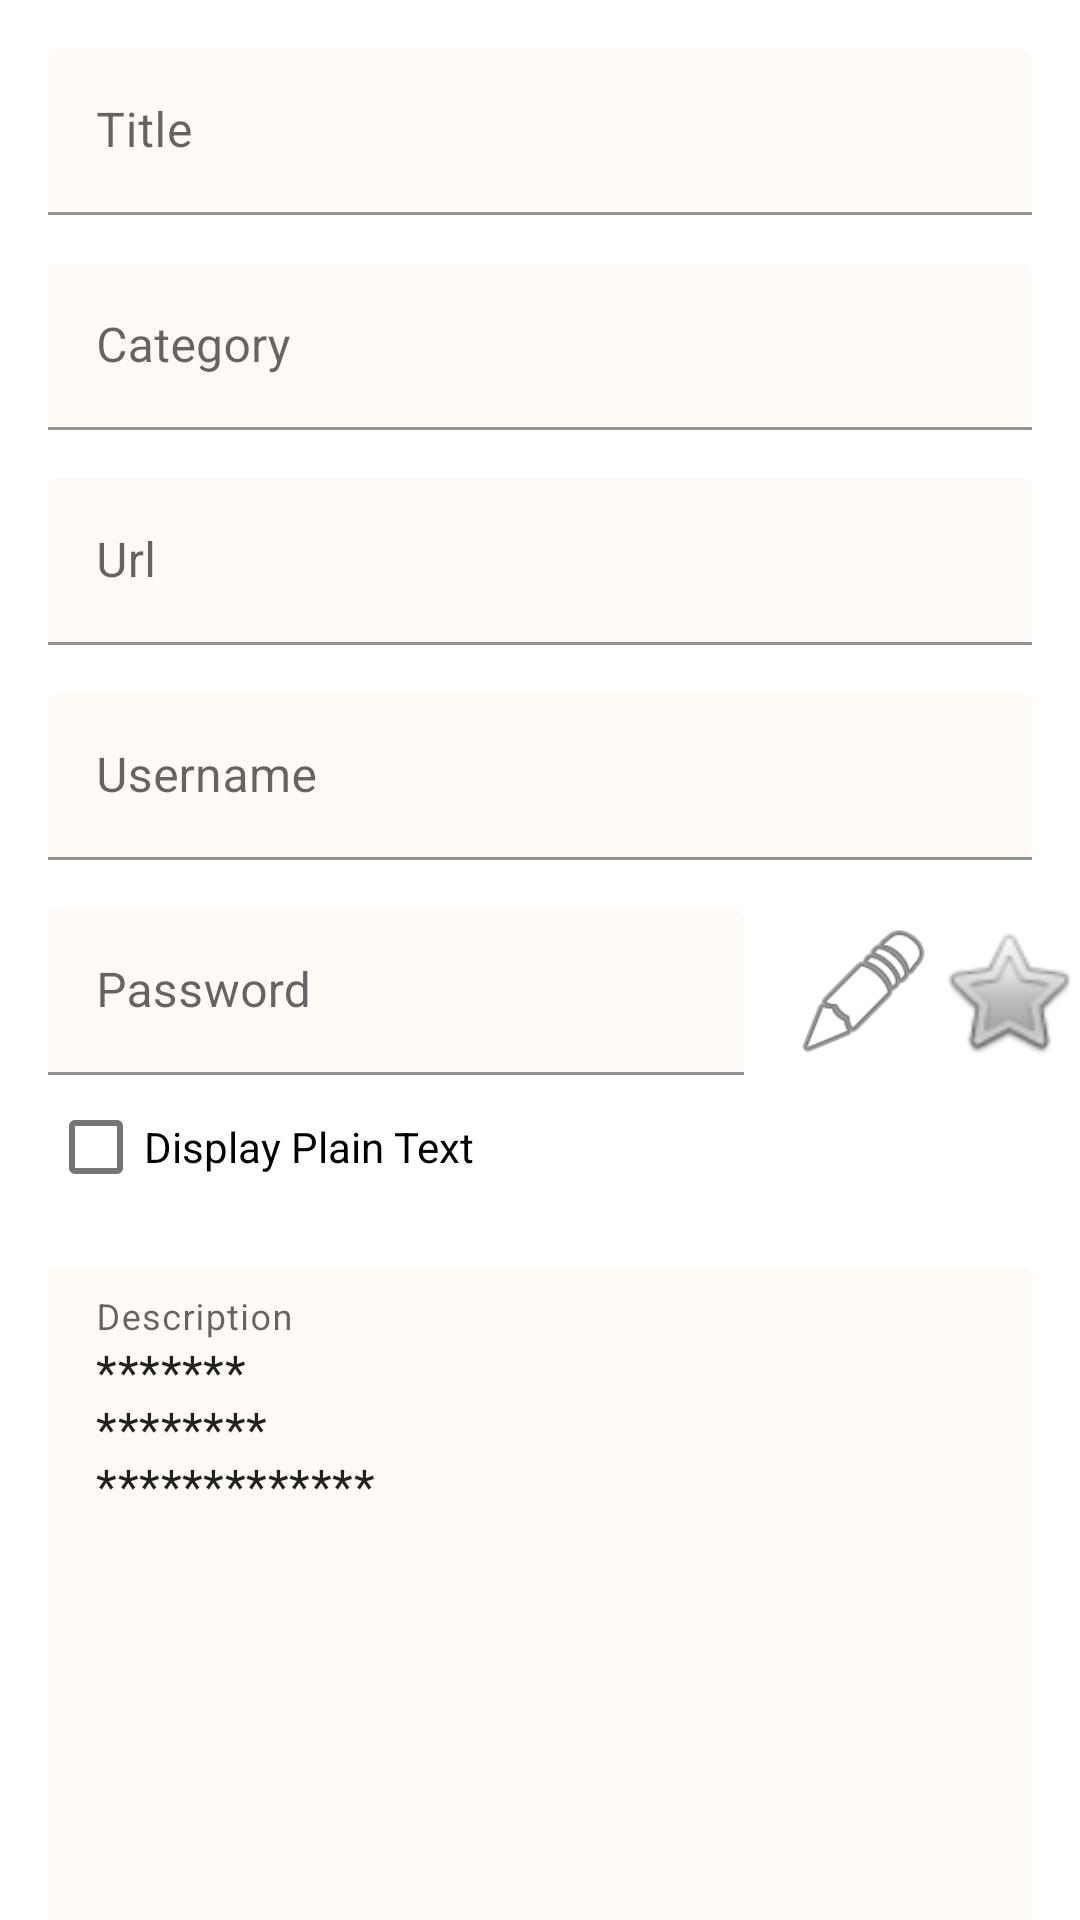

Screen size 1080x1920. Icon name, then its box in pixels as (x1, y1, x2, y2):
edit: (802, 930, 924, 1052)
star: (949, 935, 1069, 1052)
